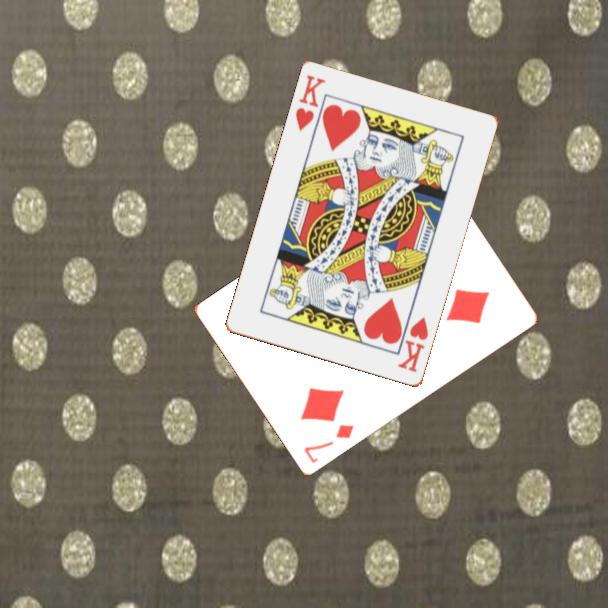d07: (300, 421, 357, 467)
h13: (292, 72, 329, 134), (395, 313, 431, 376)
